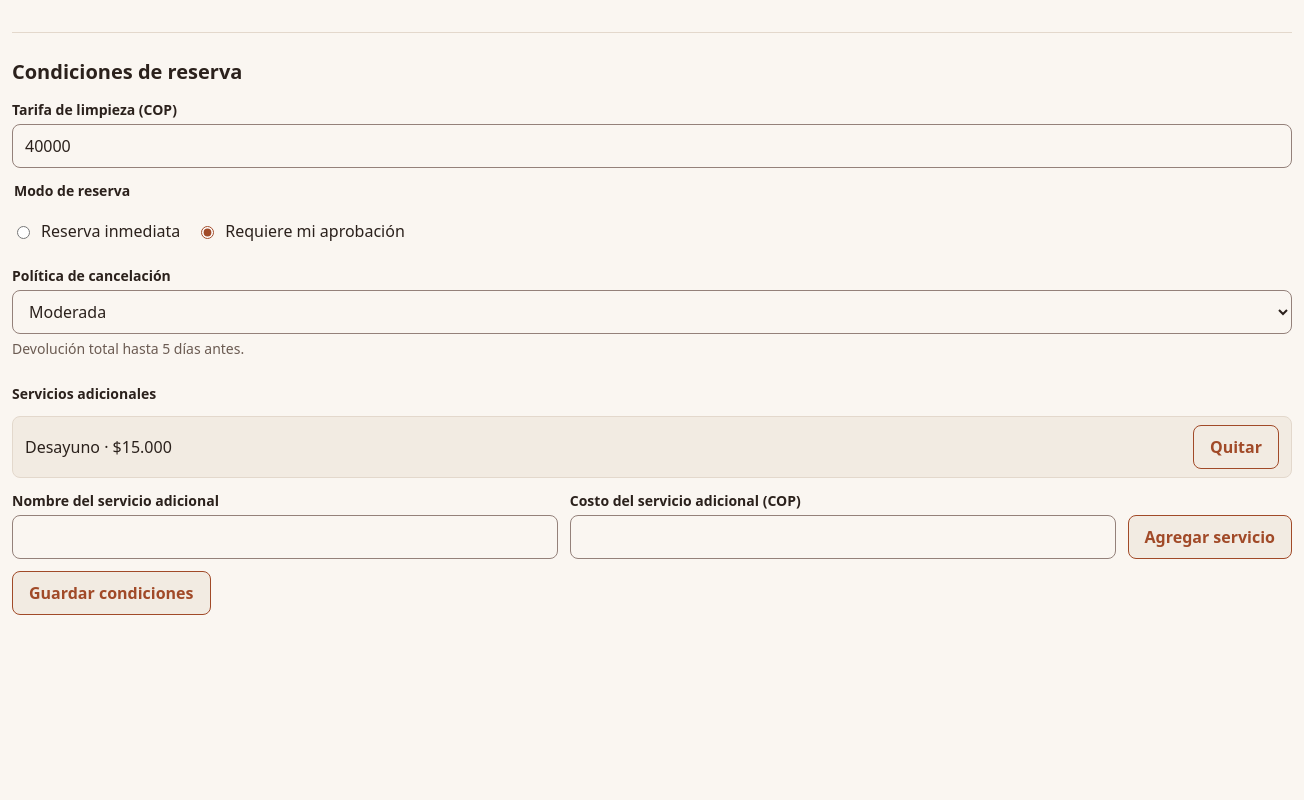
ConfiguracionPublicacion › sin tarifa ni política las envía vacías
This screenshot has width=1304, height=800.
Clear the field labelled "Tarifa de limpieza (COP)" at (652, 146), box [12,124,1292,168]
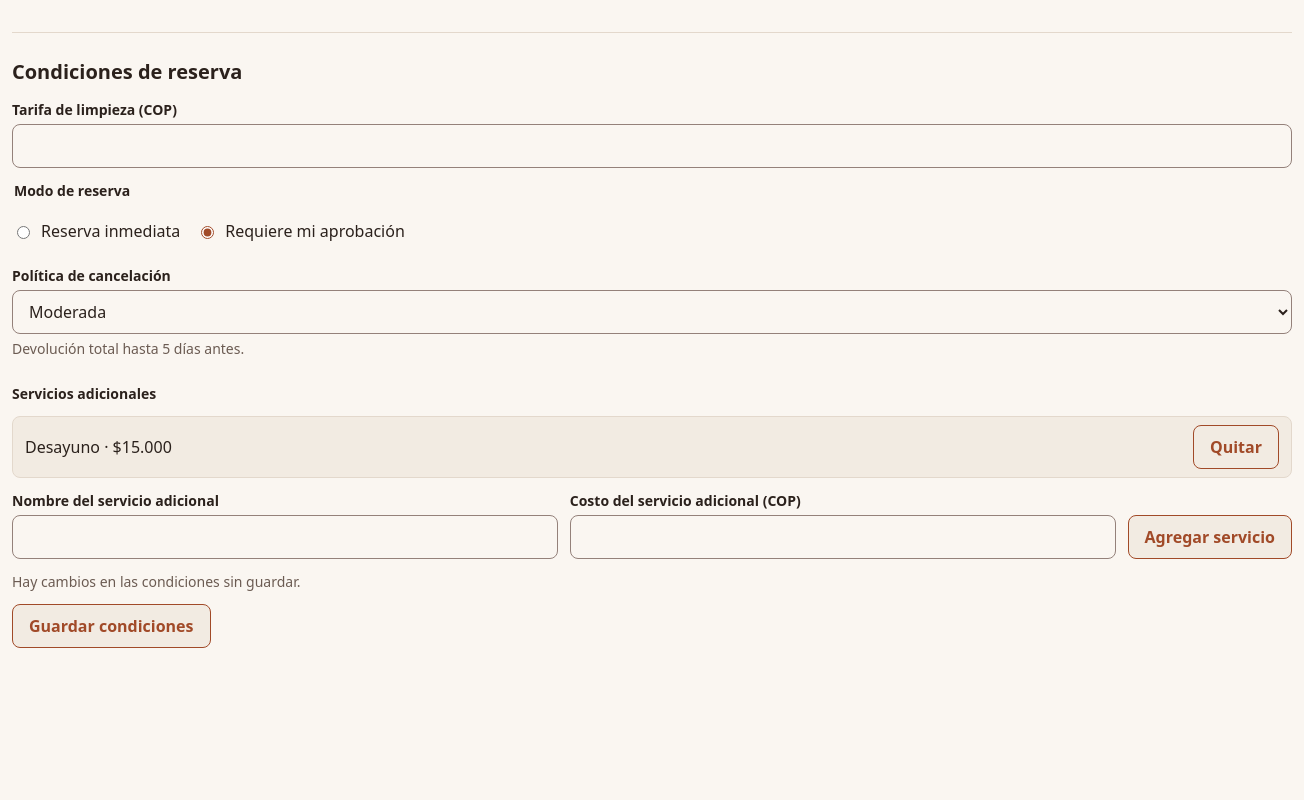
Select "Sin definir" in the dropdown labelled "Política de cancelación" at (652, 312), box [12,290,1292,334]
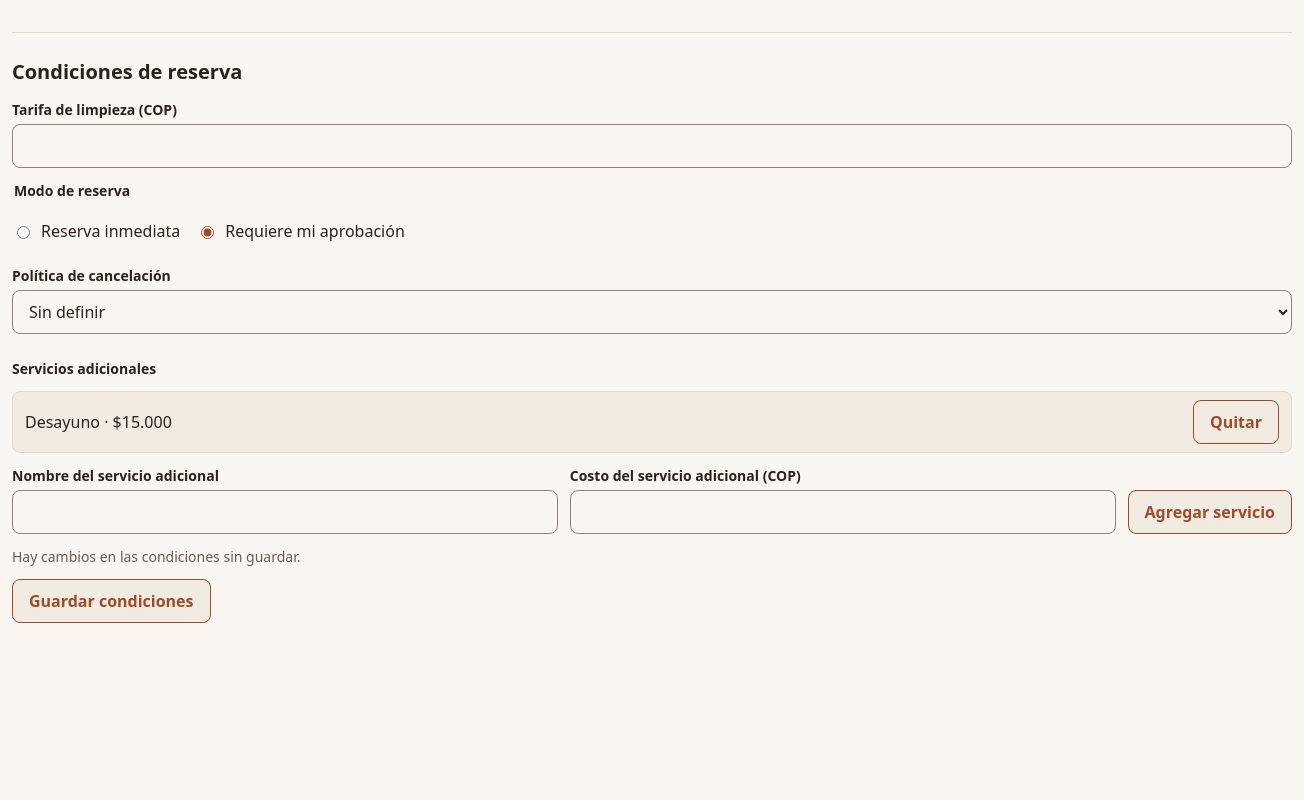
Click the button "Guardar condiciones" at (111, 601), box [12,579,210,623]
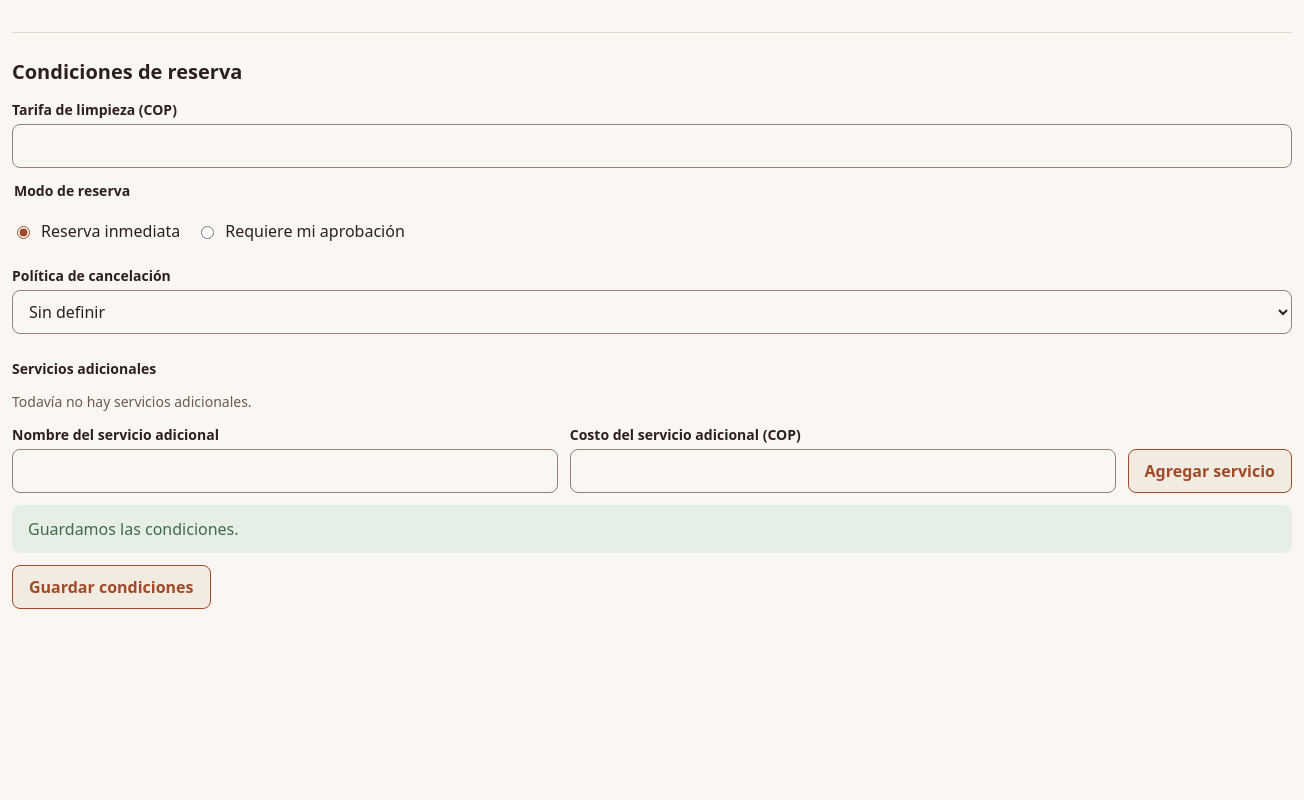
Expected: the message "Guardamos las condiciones." is shown, [12,505,1292,553]
